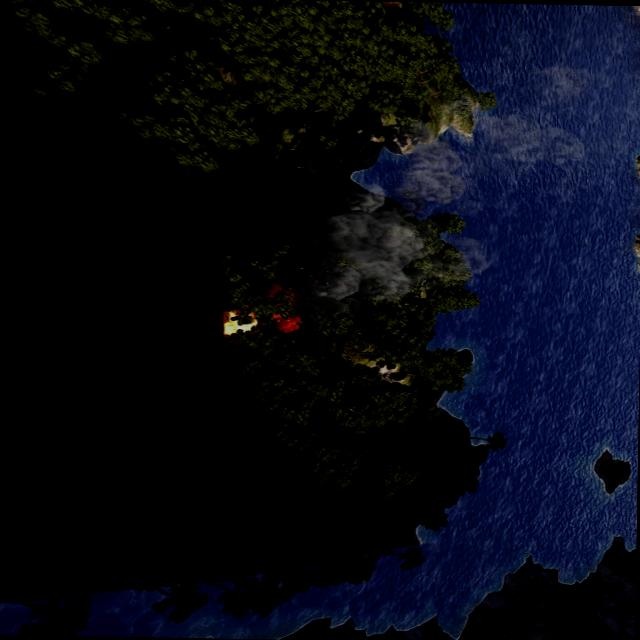fire: (218, 308, 258, 339)
smoke: (282, 58, 626, 336)
